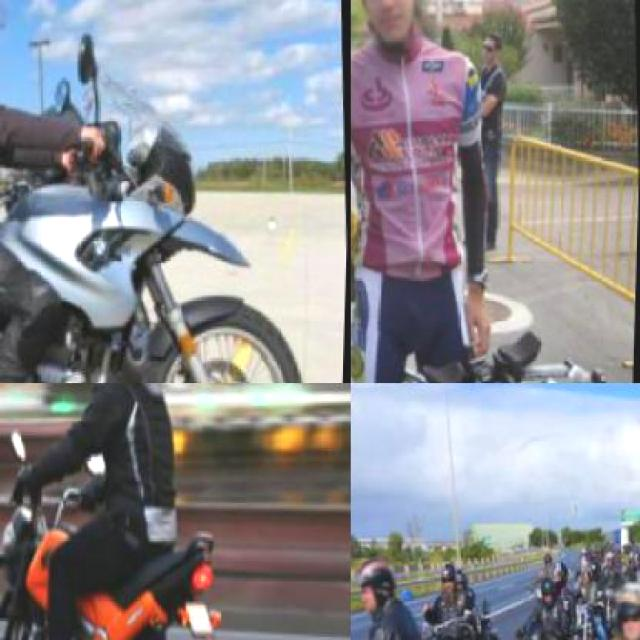With Helmet: (350, 0, 438, 52), (351, 558, 403, 620), (610, 572, 638, 638), (432, 554, 462, 598), (536, 572, 562, 611), (548, 555, 574, 593)
